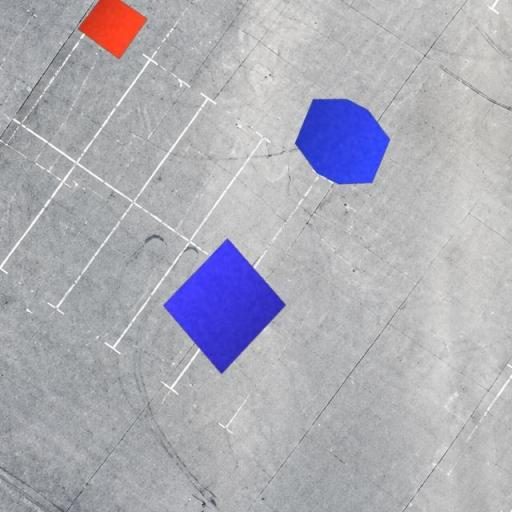BLUE_SQUARE: (162, 238, 286, 374)
RED_SQUARE: (77, 0, 148, 59)
